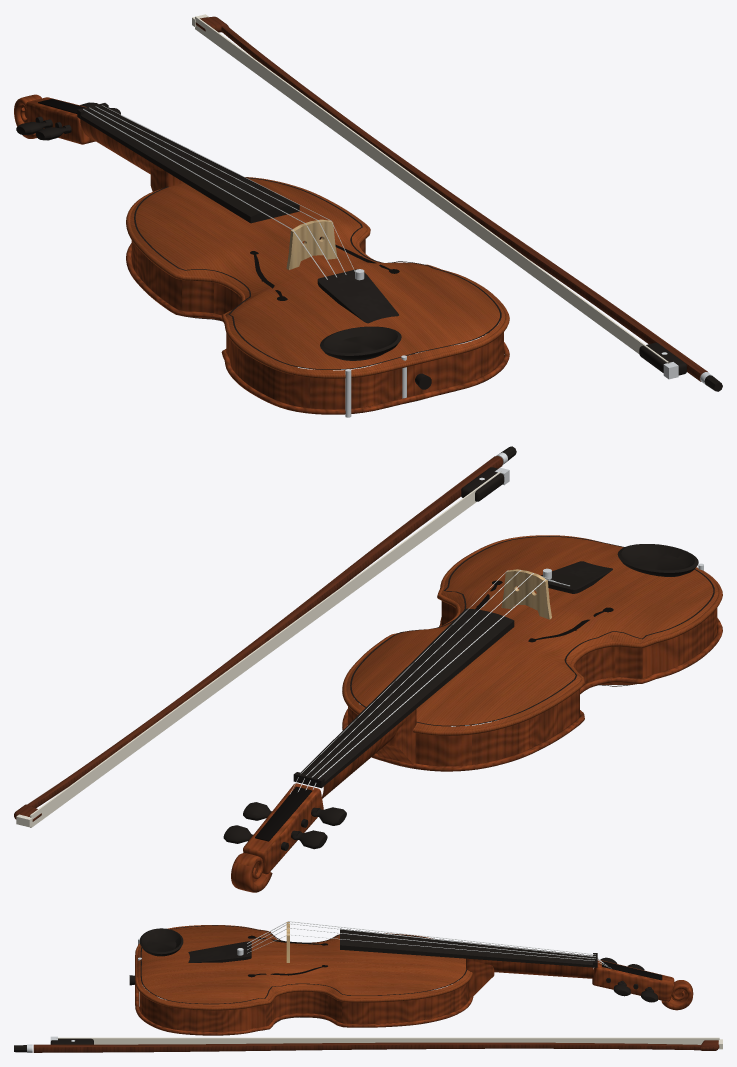
Rendered from violin.glb.
The picture shows the model from 3 angles, top to bottom: view 1: azimuth 30°, elevation 25°; view 2: azimuth 150°, elevation 25°; view 3: azimuth 270°, elevation 25°; orthographic projection. The views are drawn at different scales.
Parts seen in each view (by area): view 1: Violin_And_Bow; view 2: Violin_And_Bow; view 3: Violin_And_Bow.
Boxes of the visible parts, x1,y1,x2,y2 form: Violin_And_Bow: (14, 14, 722, 417); Violin_And_Bow: (14, 446, 722, 892); Violin_And_Bow: (14, 921, 722, 1052).
Size of the model in its own units: 0.2907 by 0.0964 by 0.7545.
13 materials, 5 textured.
